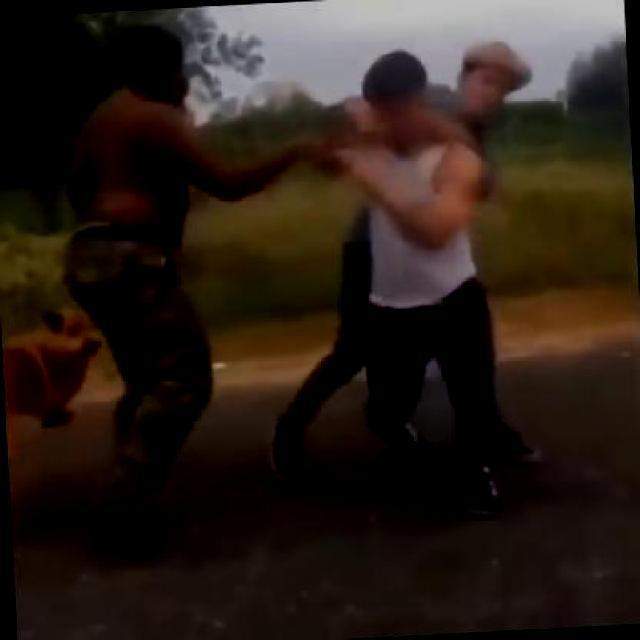fight: (314, 33, 556, 521)
